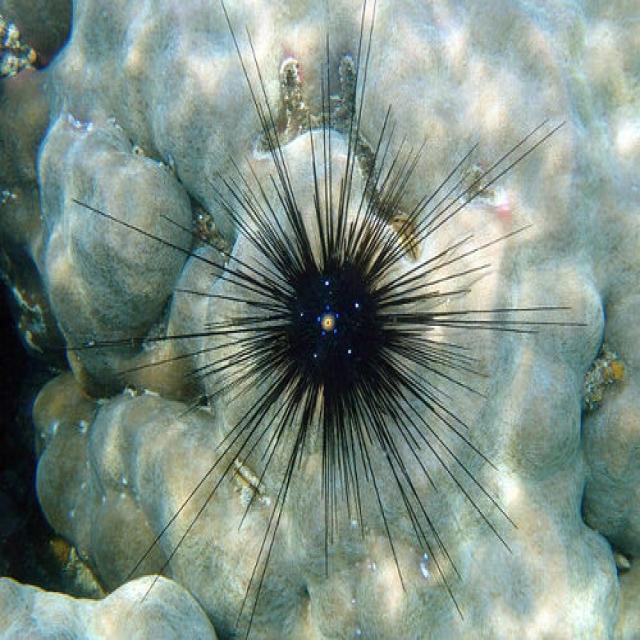Urchin: (72, 2, 590, 626)
